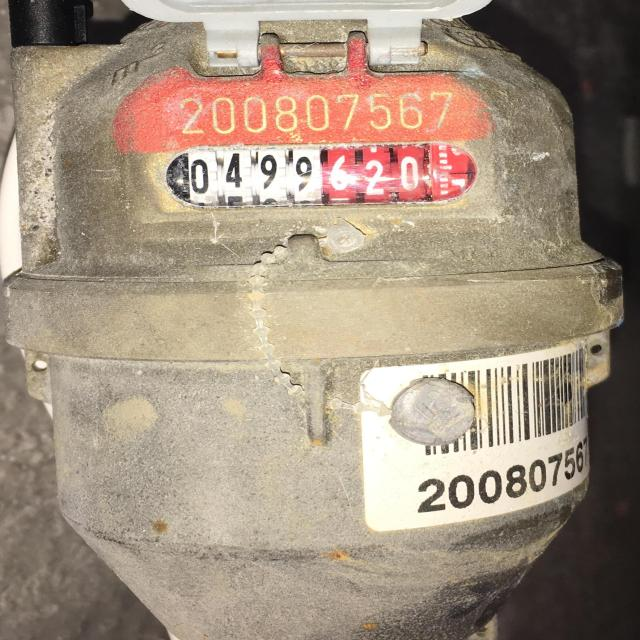gaz_meter: (21, 41, 582, 280)
indication: (180, 141, 440, 209)
